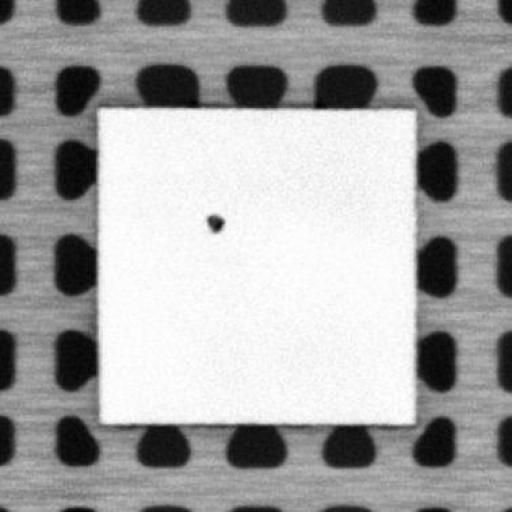DIE_INK: (202, 210, 226, 234)
